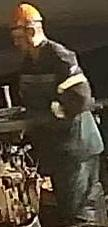helmet: (7, 2, 45, 35)
vest: (15, 44, 101, 172)
